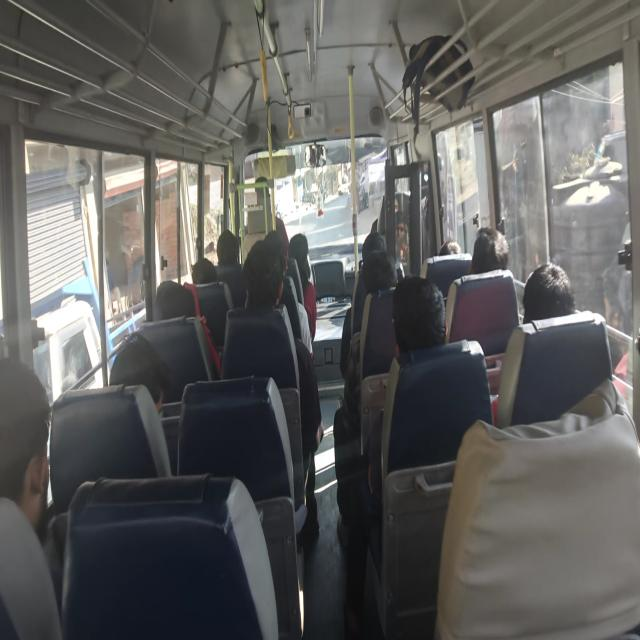person: (1, 351, 61, 537), (387, 264, 455, 364), (109, 327, 176, 407), (524, 253, 577, 326), (470, 220, 526, 283), (145, 270, 197, 328), (244, 243, 287, 303), (358, 248, 404, 294), (188, 244, 222, 300), (265, 230, 296, 280), (360, 227, 396, 264), (216, 224, 242, 272), (434, 233, 464, 270), (253, 170, 280, 210), (290, 234, 314, 279), (379, 176, 405, 206)
